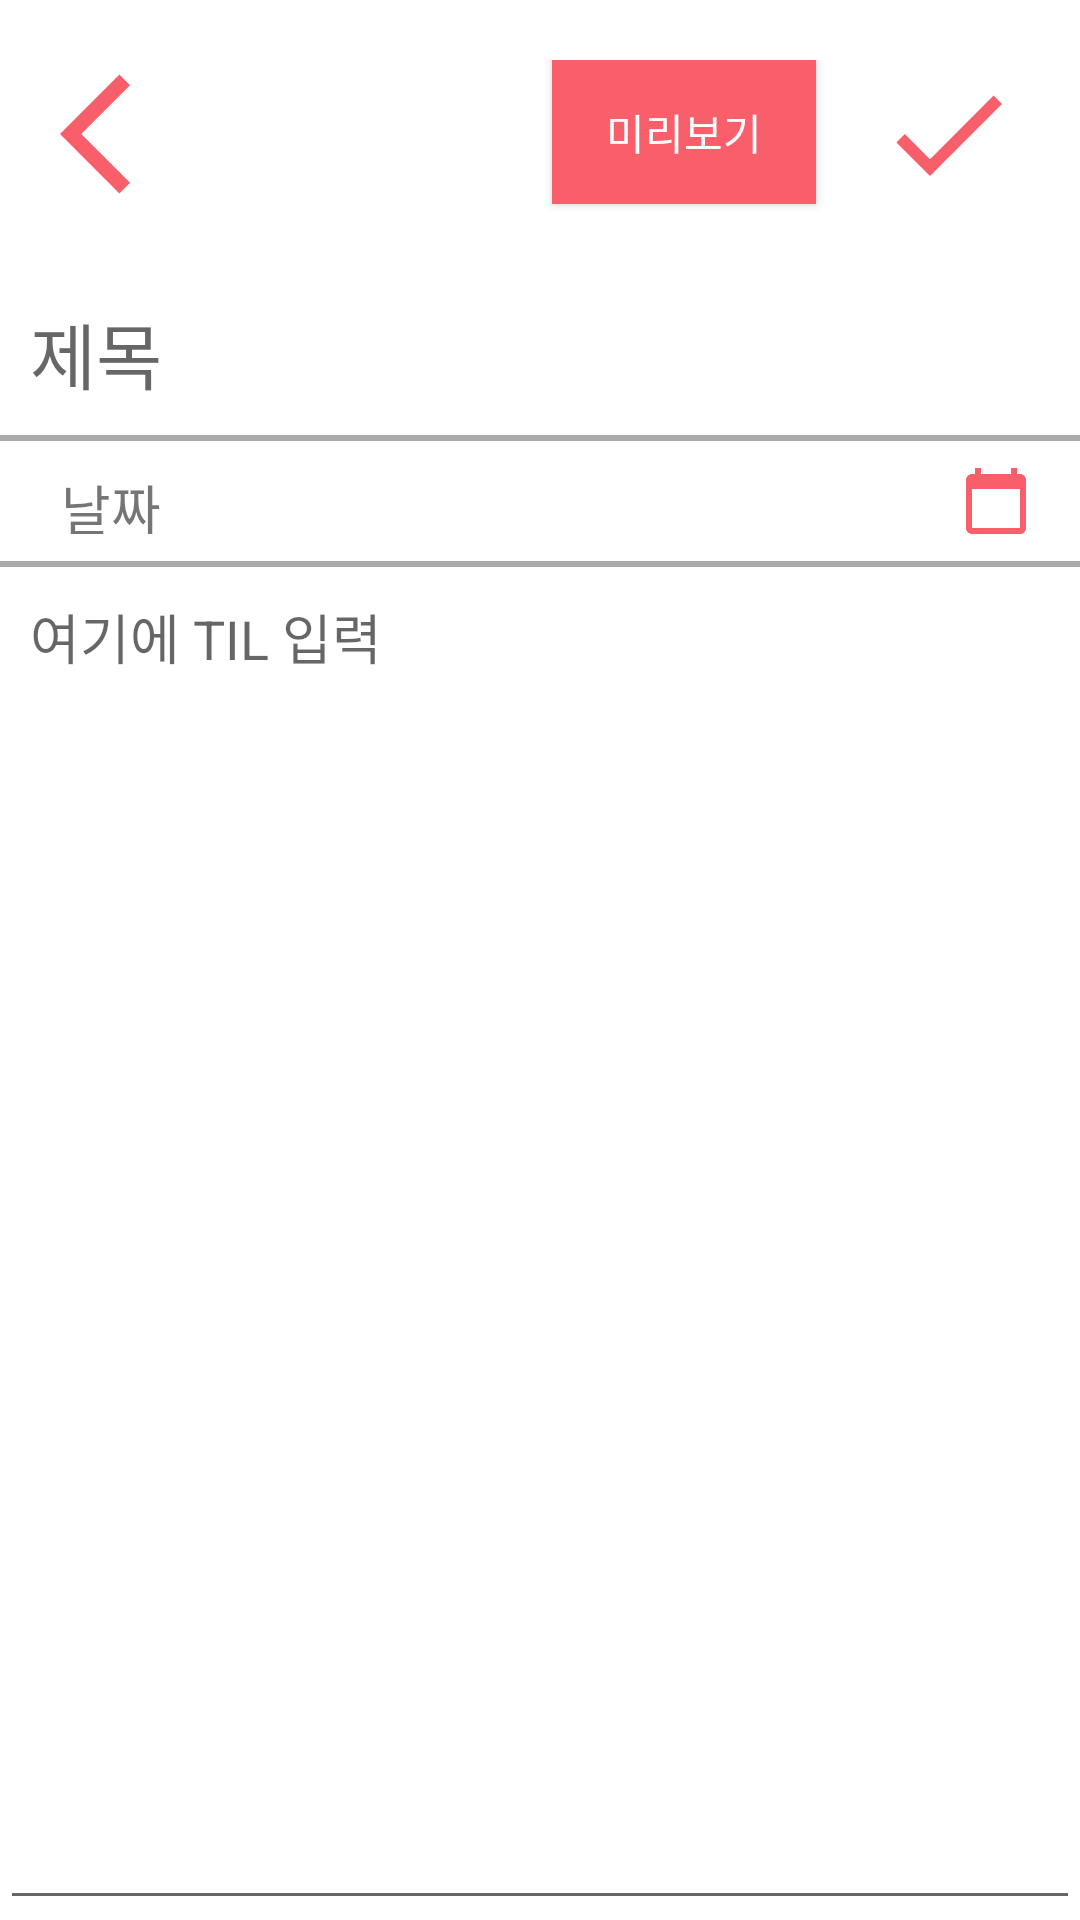

Icons on this 1080 × 1920 Android screen, each with the point to tap as [x,y]:
calendar: [996,501]
done: [949,135]
